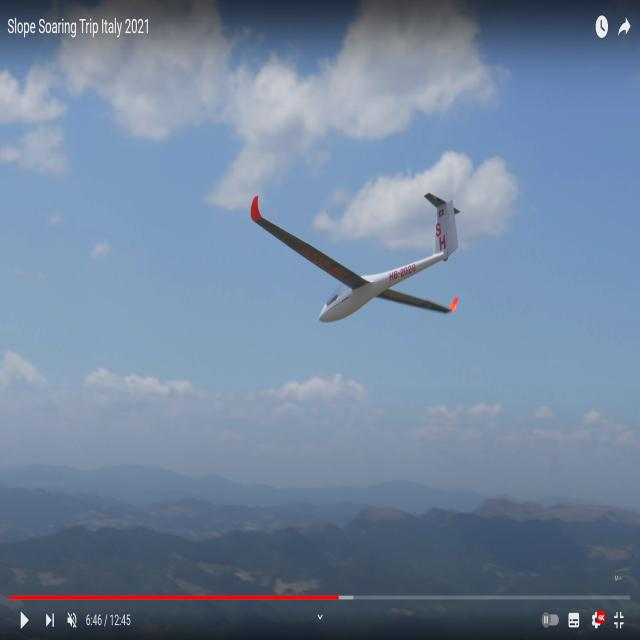iha: (250, 228, 468, 291)
